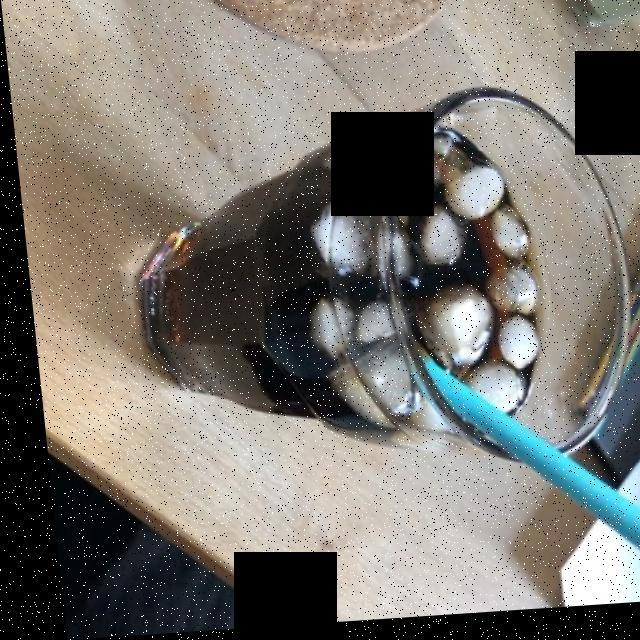coca-cola: (142, 117, 543, 448)
